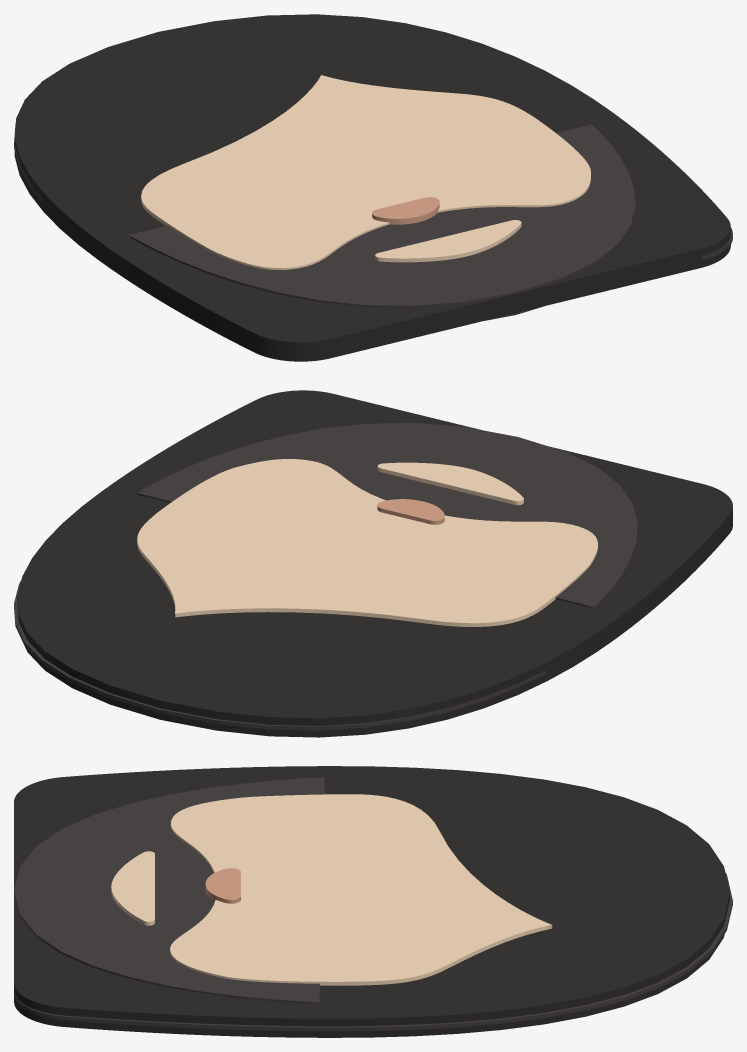
File: emoji_u1f9d4_1f3fb_200d_2640.glb
3 renders of one model, top to bottom at view 1: azimuth 30°, elevation 25°; view 2: azimuth 150°, elevation 25°; view 3: azimuth 270°, elevation 25°, orthographic.
Visible parts, largest first — view 1: emoji_u1f9d4_1f3fb_200d_2640; view 2: emoji_u1f9d4_1f3fb_200d_2640; view 3: emoji_u1f9d4_1f3fb_200d_2640.
Part boxes in pixels (x1,y1,x2,y2): emoji_u1f9d4_1f3fb_200d_2640: [14, 14, 732, 361]; emoji_u1f9d4_1f3fb_200d_2640: [14, 390, 732, 737]; emoji_u1f9d4_1f3fb_200d_2640: [14, 766, 732, 1037].
Bounding box in the file's own units: 0.0283 × 0.0018 × 0.0339.
